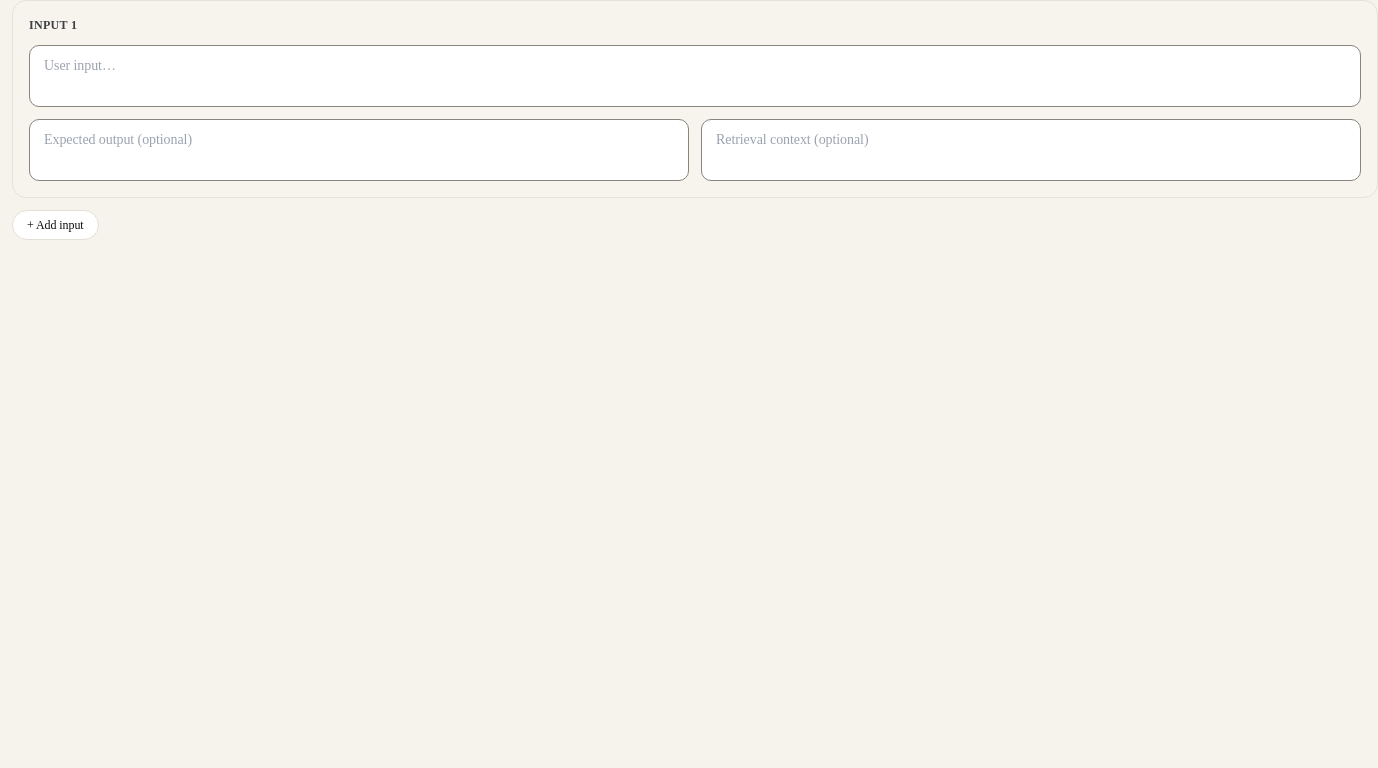
Scenario: InstanceRowsEditor › removes a row and renumbers the remaining ones
This screenshot has width=1378, height=768.
Click the button "+ Add input": (55, 225) [12,210,99,240]
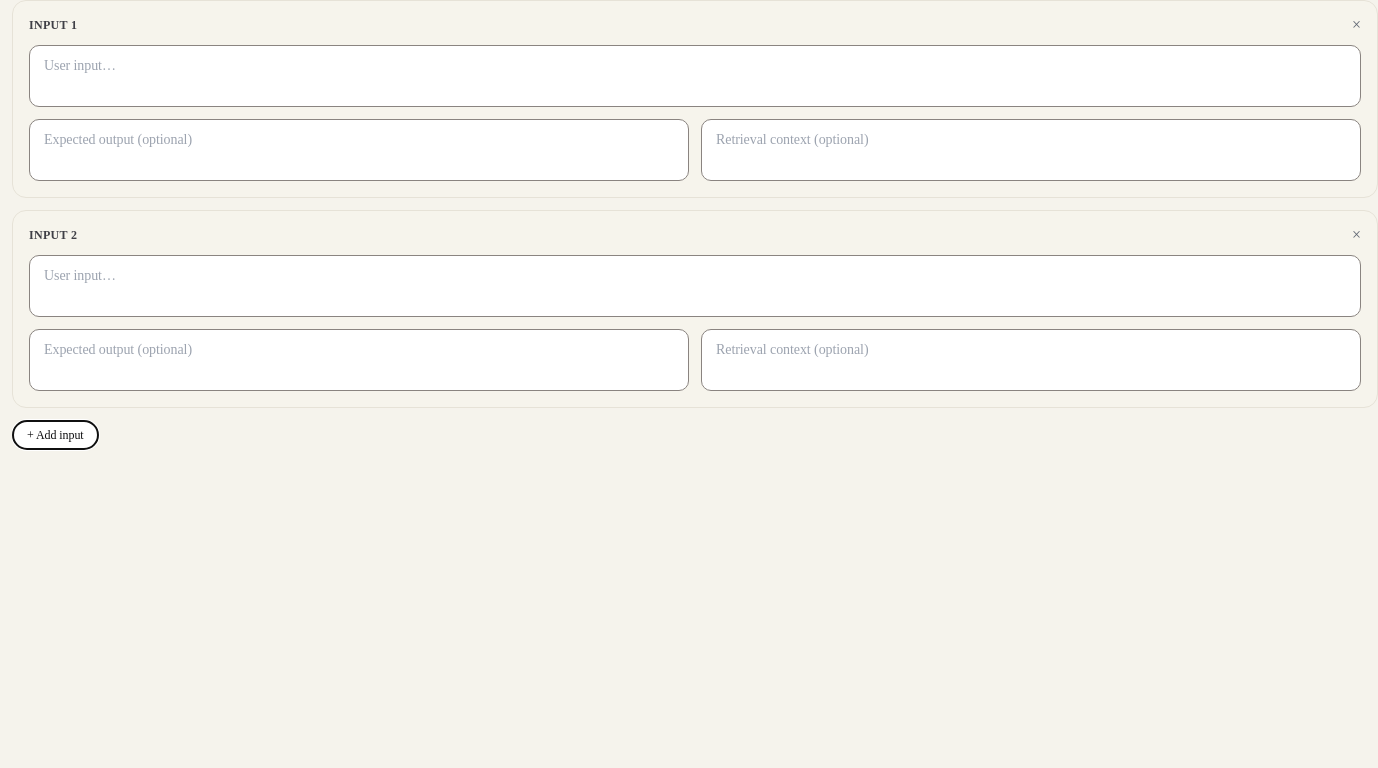
Click the button "+ Add input": (55, 435) [12,420,99,450]
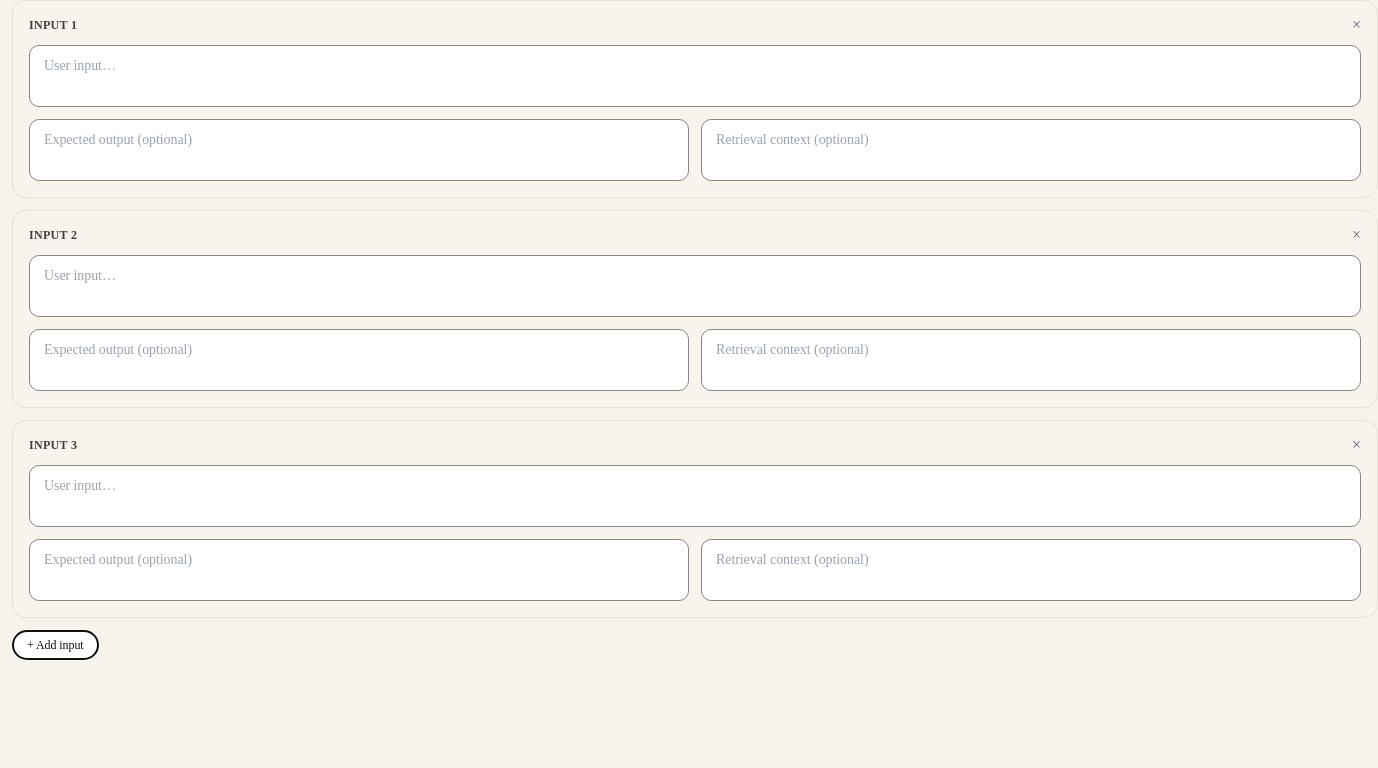
Check: the text "Input 3" is shown, box [29,437,77,453]
Click the button named "Remove input 1": (1356, 25) [1352,17,1361,33]
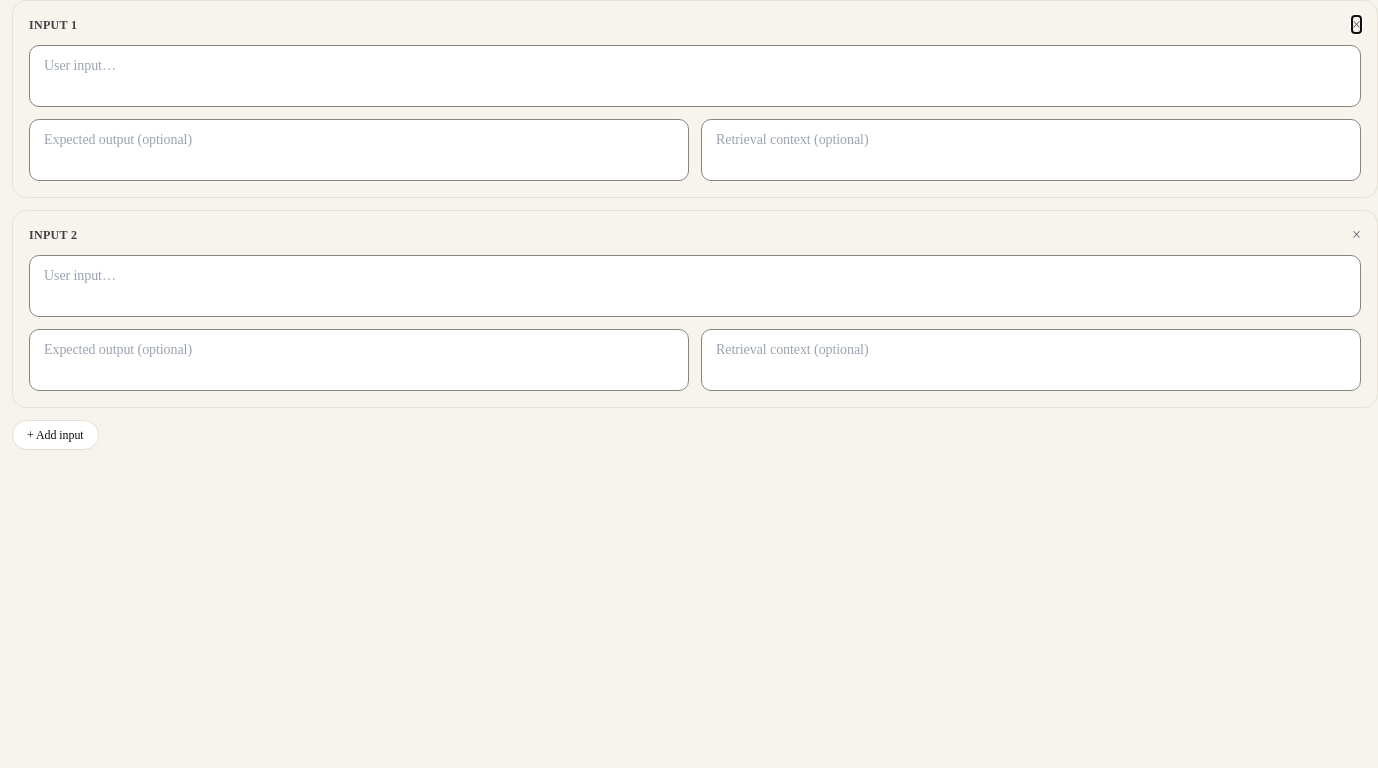
Check: the text "Input 2" is shown, box [29,227,77,243]
Check: the button named "Remove input 1" is enabled, box [1352,17,1361,33]
Check: the text "Input 3" is gone
